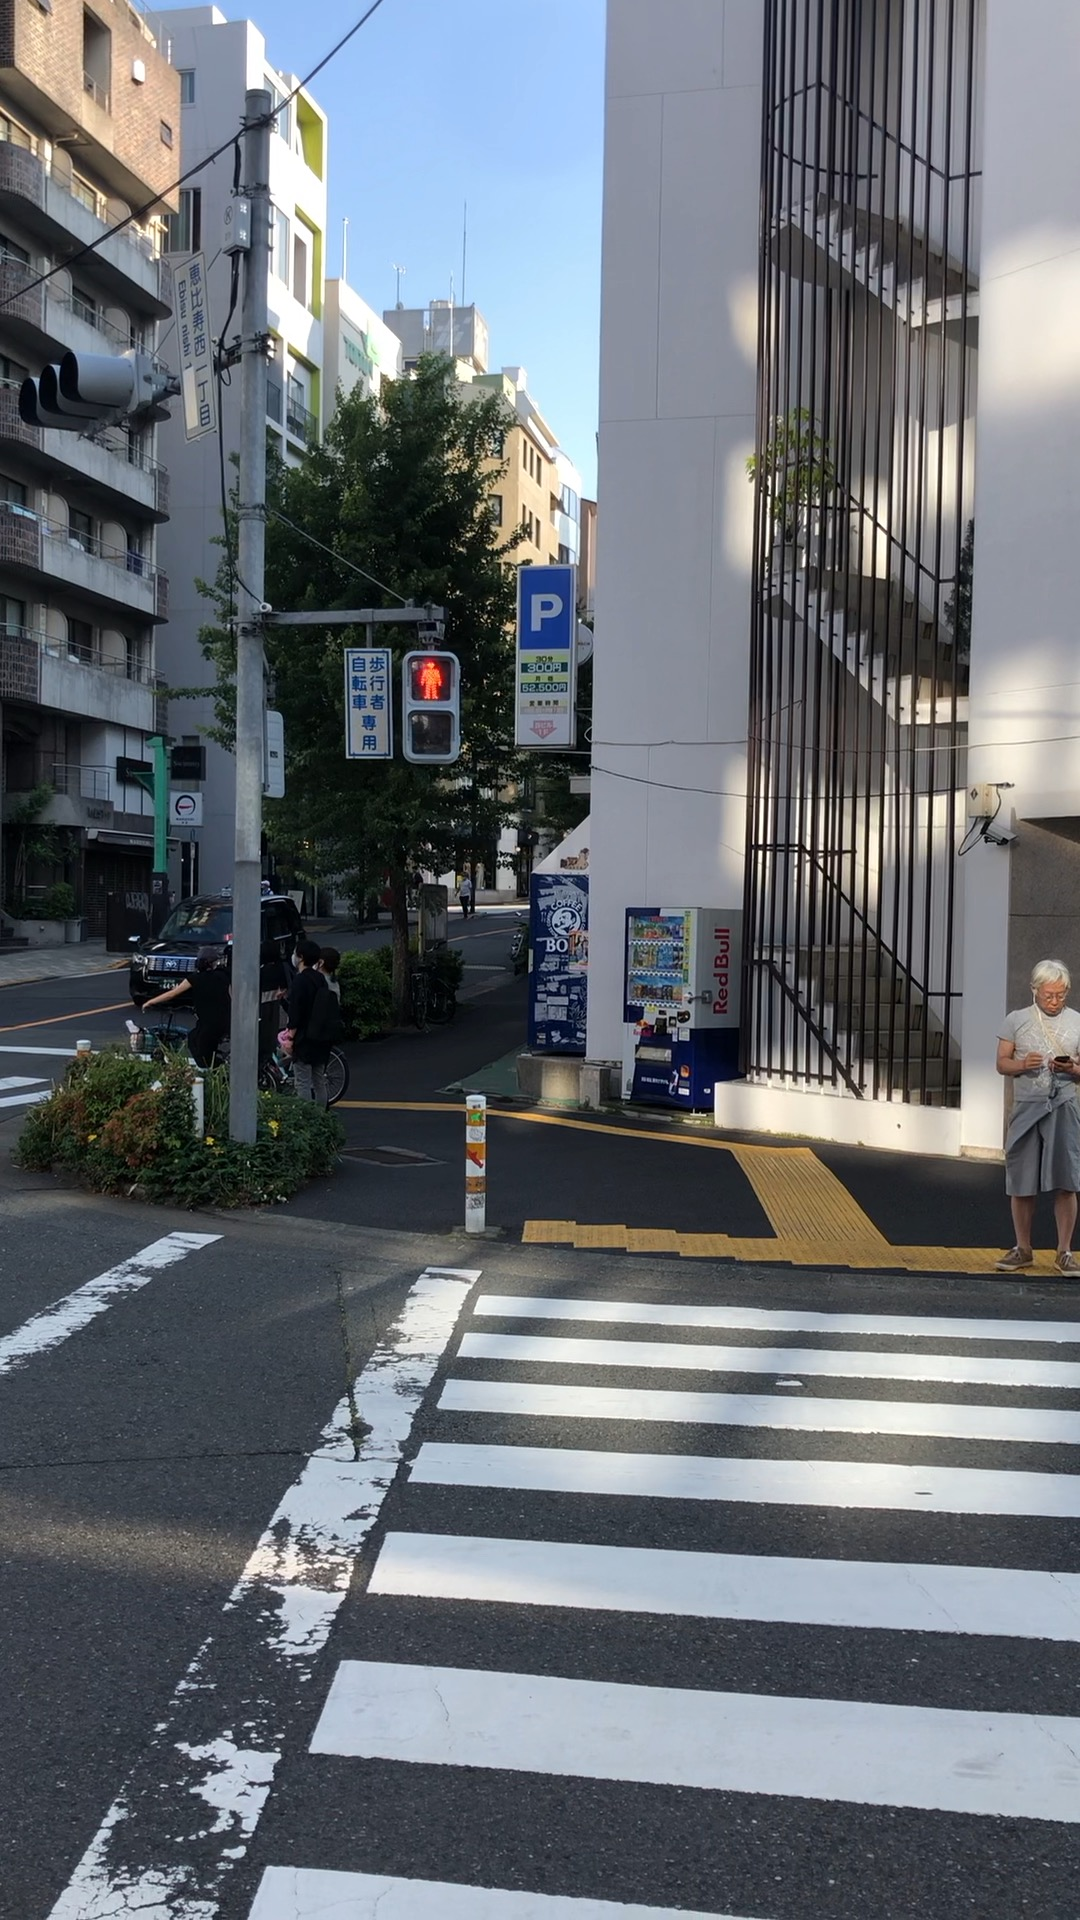red: (400, 651, 459, 762)
